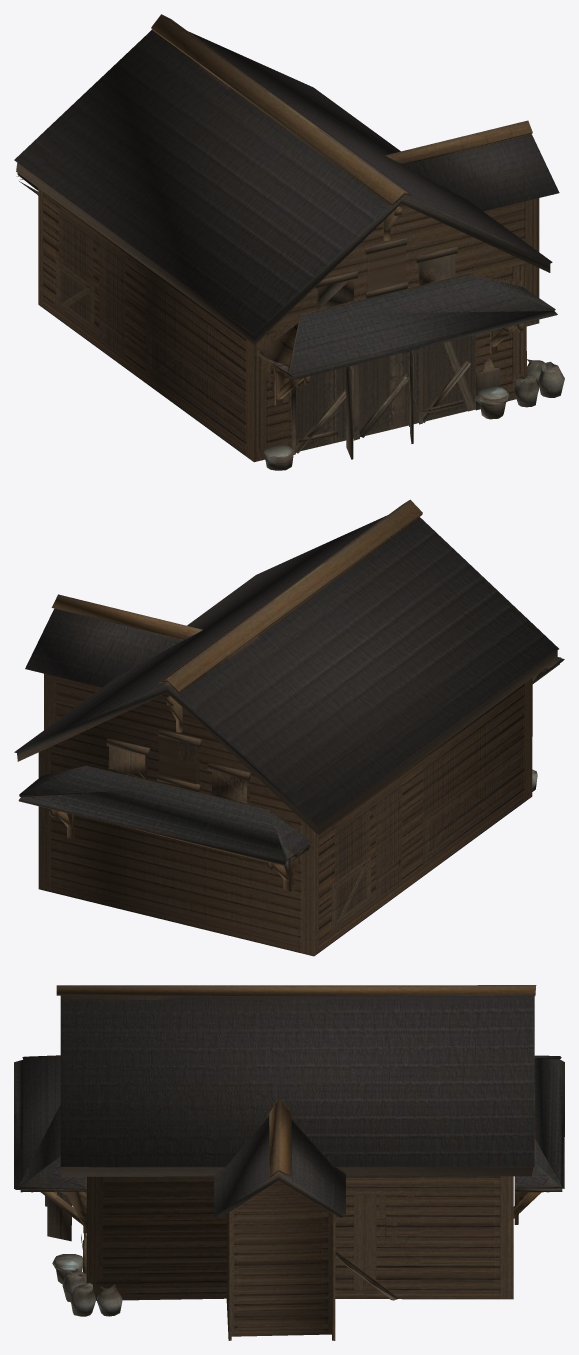
The model's file is building-stables.glb.
3 renders of one model, top to bottom at view 1: azimuth 30°, elevation 25°; view 2: azimuth 150°, elevation 25°; view 3: azimuth 270°, elevation 25°, orthographic. The views are drawn at different scales.
Size of the model in its own units: 0.7637 by 0.4775 by 0.9541.
1 material, 1 textured.
